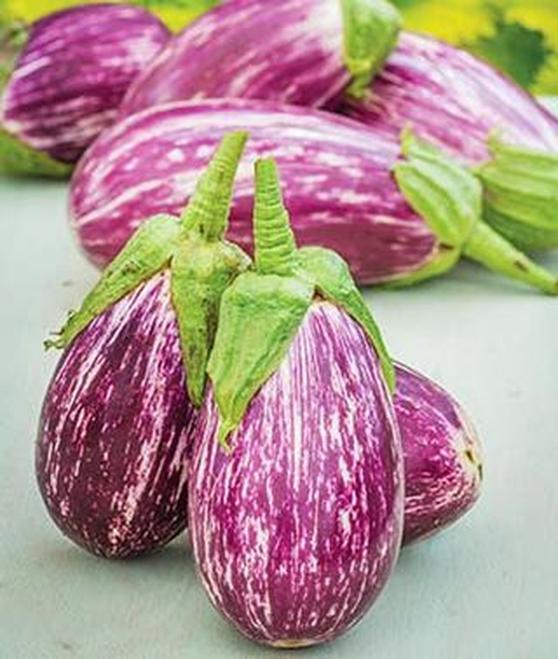eggplant: (192, 210, 401, 653)
